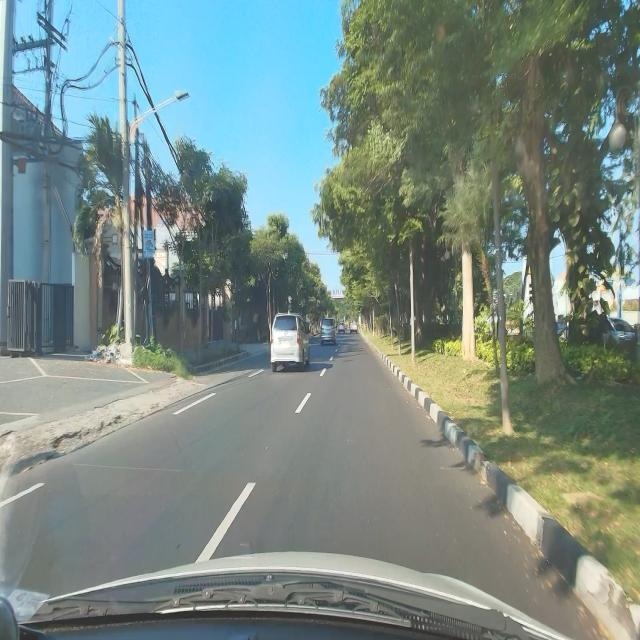car: (270, 311, 310, 375), (320, 317, 336, 346)
